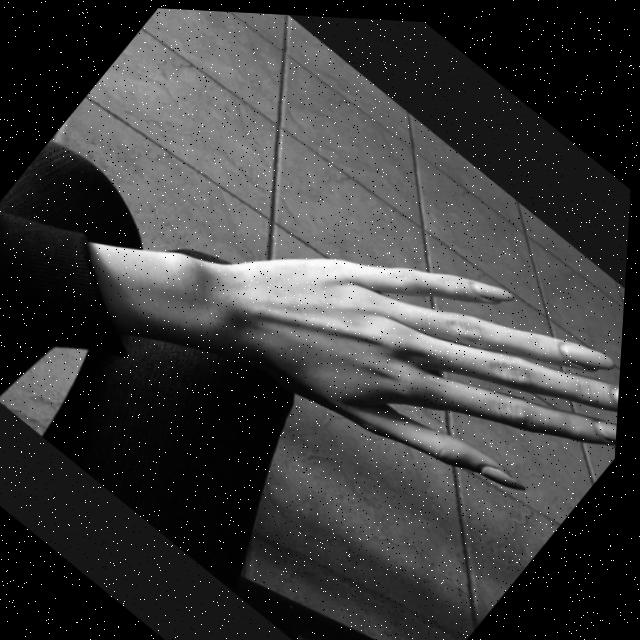hand: (168, 108, 635, 576)
